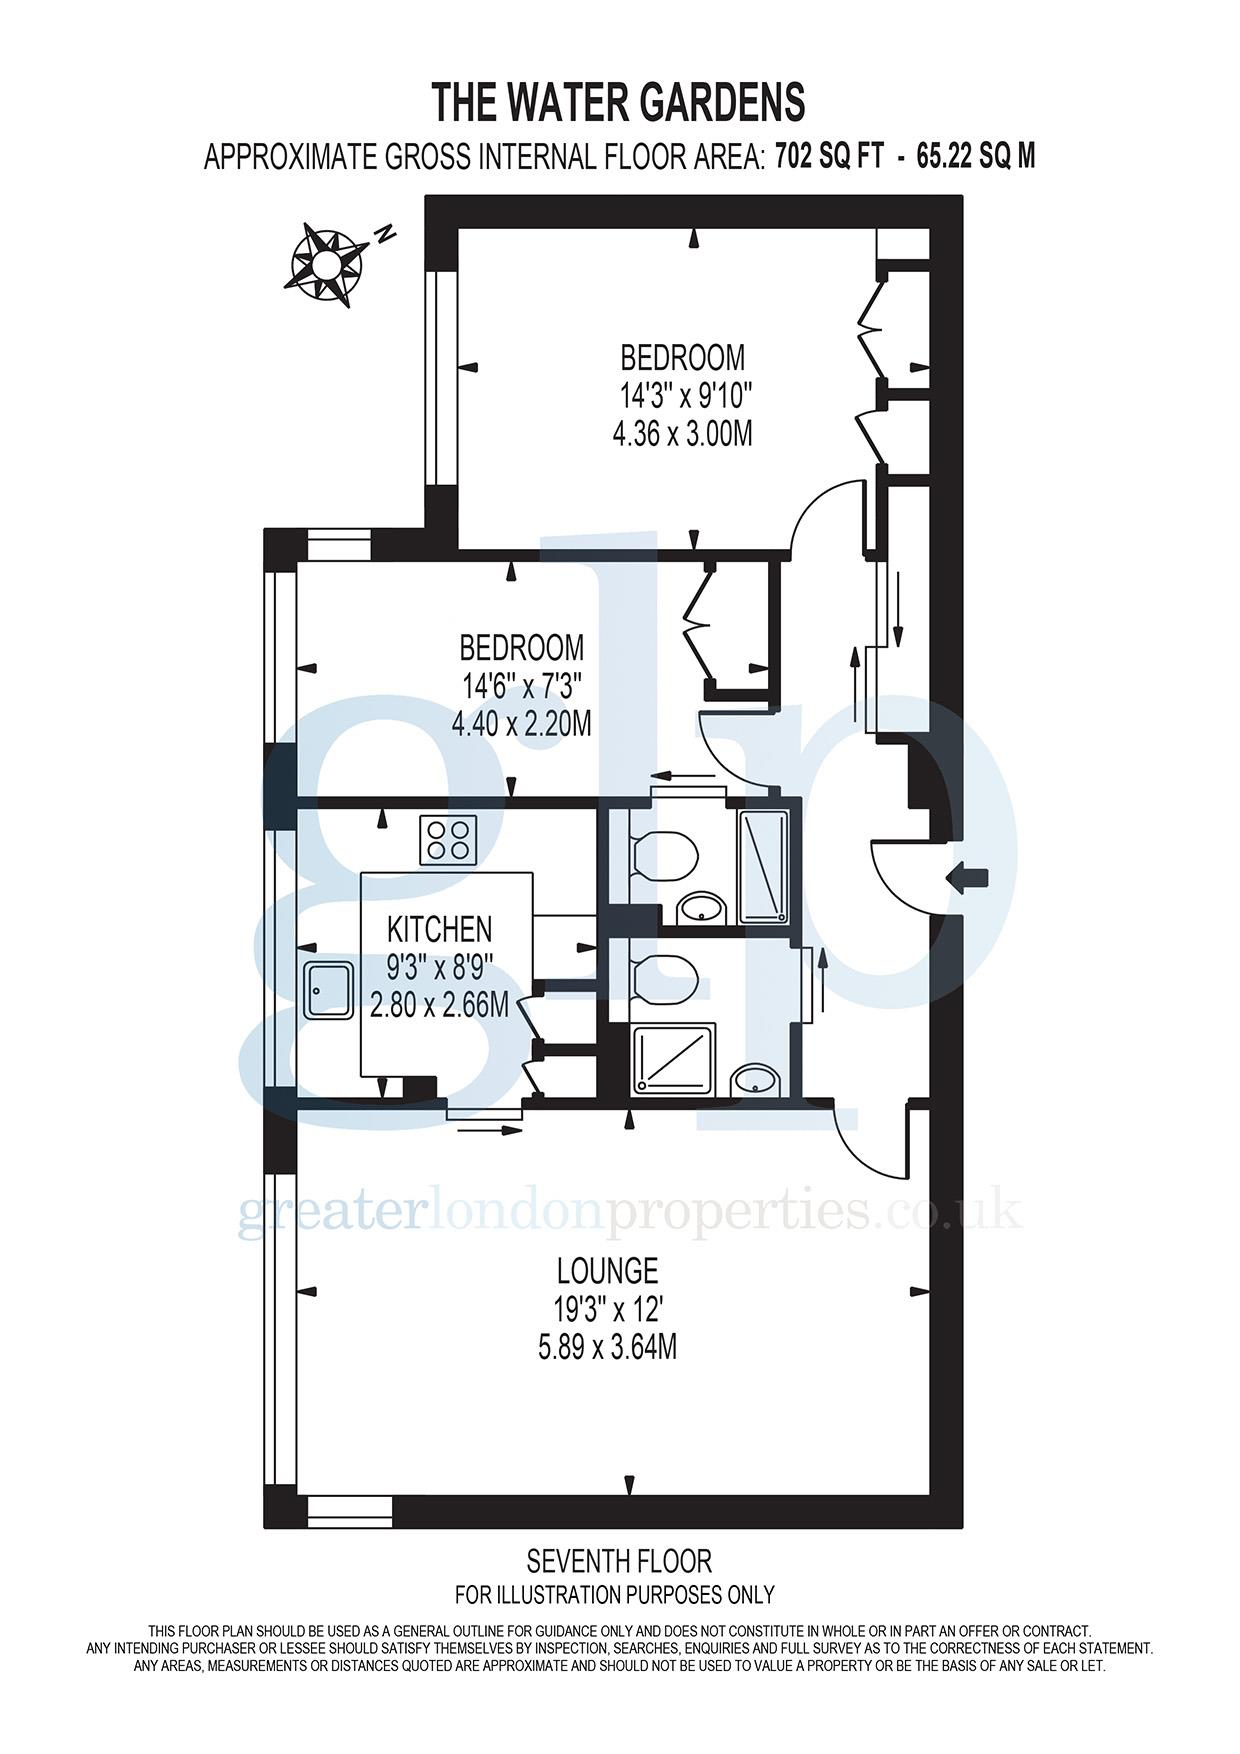door: (807, 1121, 921, 1204), (784, 470, 882, 554), (849, 820, 934, 899), (670, 580, 742, 659), (679, 702, 756, 770)
room: (258, 1091, 953, 1523), (419, 188, 964, 570), (248, 538, 782, 804), (263, 788, 608, 1115), (778, 554, 955, 1125), (607, 921, 807, 1113), (592, 794, 803, 935)
wall: (419, 187, 964, 238), (929, 199, 964, 841), (399, 1499, 964, 1529), (517, 1094, 849, 1117), (293, 796, 656, 812), (600, 917, 800, 938), (421, 191, 462, 272), (266, 749, 306, 828), (258, 525, 303, 578), (298, 1096, 446, 1113), (263, 1486, 301, 1529), (599, 812, 607, 905)
window: (248, 828, 311, 1083), (260, 1176, 303, 1486), (421, 275, 471, 480), (256, 573, 303, 743), (313, 1494, 395, 1533), (311, 530, 370, 562)
